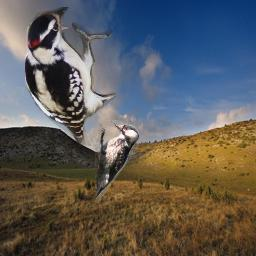Woodpecker: (25, 7, 116, 146), (95, 120, 139, 203)
